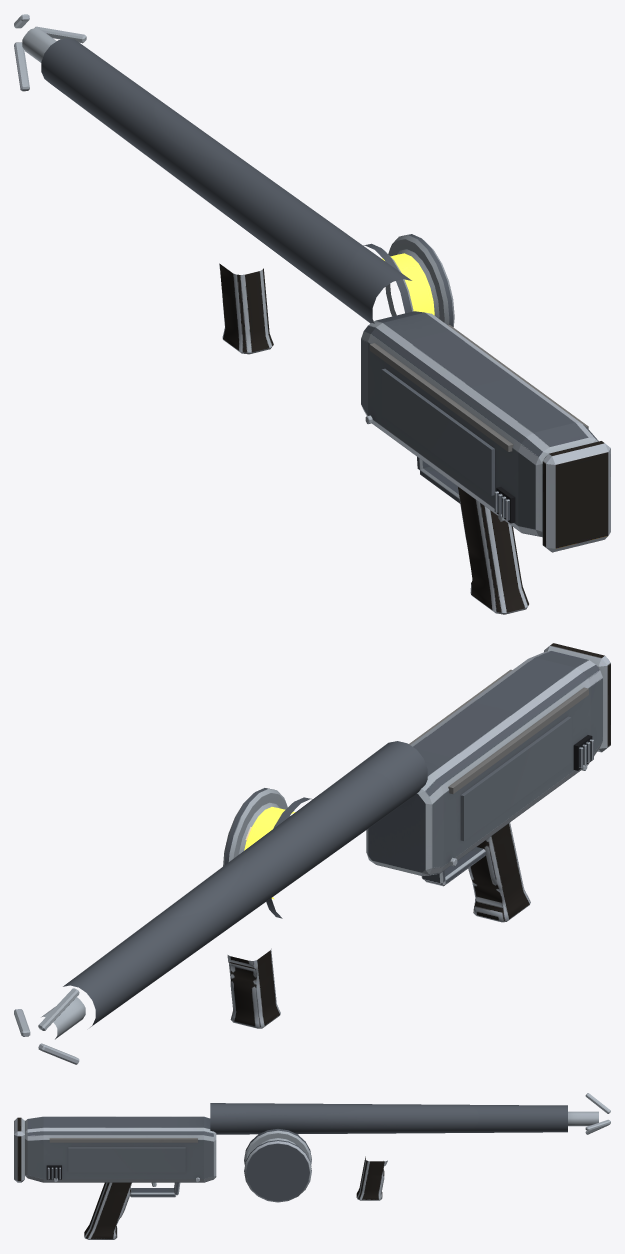
3 renders of one model, top to bottom at view 1: azimuth 30°, elevation 25°; view 2: azimuth 150°, elevation 25°; view 3: azimuth 270°, elevation 25°, orthographic. The views are drawn at different scales.
Parts seen in each view (by area): view 1: body; view 2: body; view 3: body.
Part boxes in pixels (<box>): body: <box>14,14,610,614</box>; body: <box>14,643,610,1064</box>; body: <box>14,1093,610,1239</box>.
Bounding box in the file's own units: 0.1335 × 0.2454 × 0.9677.
1 material, 1 textured.
